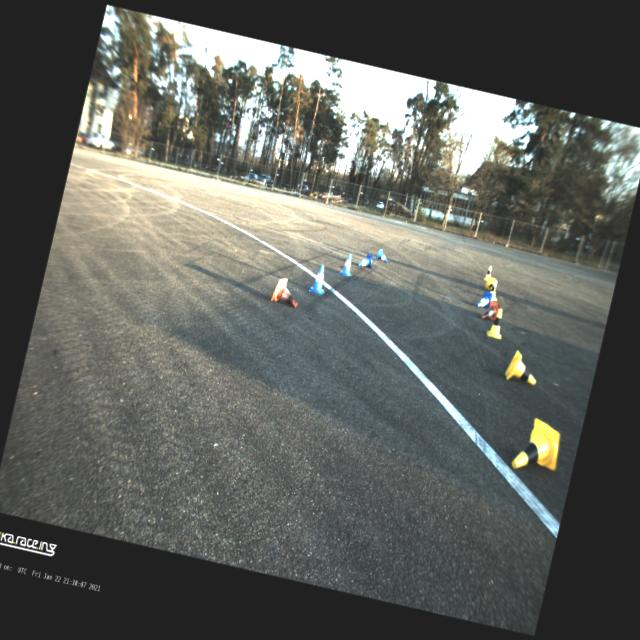blue_cone: (308, 263, 330, 295), (337, 252, 356, 277), (476, 290, 492, 308), (358, 252, 373, 268), (374, 248, 390, 263)
orange_cone: (270, 276, 302, 308), (481, 300, 498, 322)
yellow_cone: (510, 414, 566, 477), (502, 348, 542, 386), (485, 306, 507, 338), (488, 279, 500, 301), (483, 264, 493, 280), (484, 276, 494, 289)
